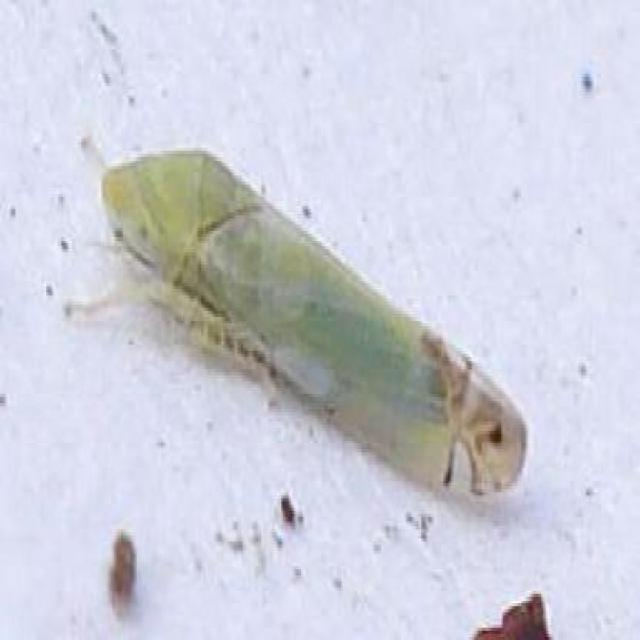green-leafhopper: (61, 150, 526, 497)
